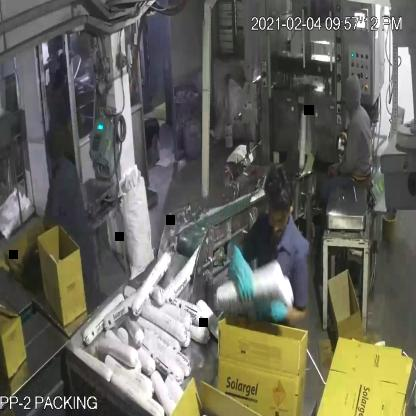glove: (230, 236, 264, 302), (255, 290, 305, 327)
